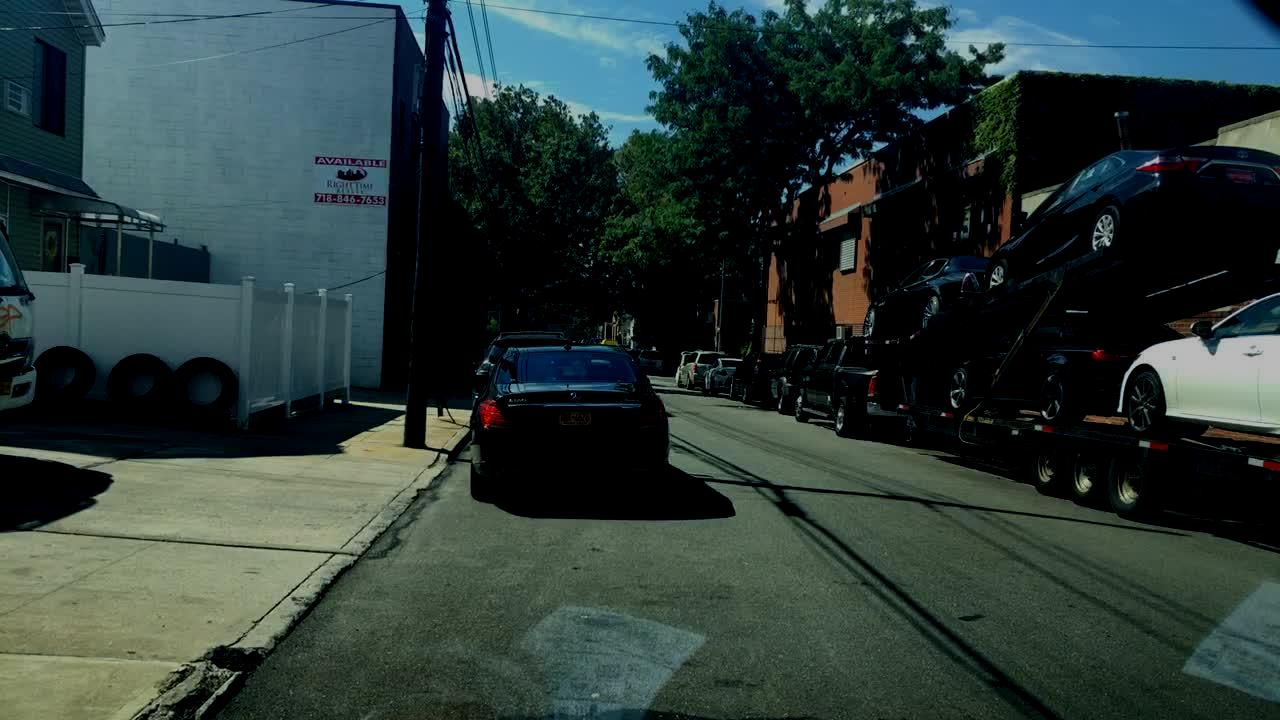Mercedes: (564, 388, 587, 407)
